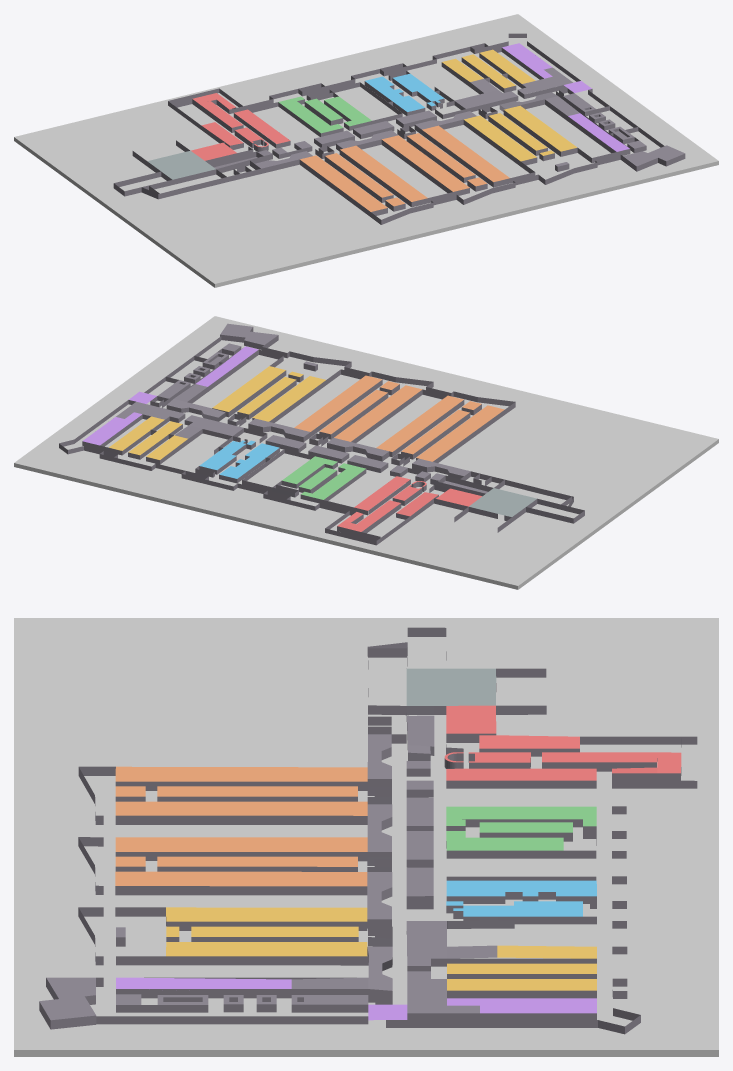
The model's file is hospital.glb.
3 views of the same model, one above another, from view 1: azimuth 30°, elevation 25°; view 2: azimuth 150°, elevation 25°; view 3: azimuth 270°, elevation 25° (orthographic). The views are drawn at different scales.
Visible parts, largest first — view 1: Surface Sol, planHop; view 2: Surface Sol, planHop; view 3: Surface Sol, planHop.
Part boxes in pixels (left/top/right/bottom): Surface Sol: left=14, top=14, right=718, bottom=287; planHop: left=113, top=33, right=685, bottom=224; Surface Sol: left=14, top=316, right=718, bottom=589; planHop: left=59, top=323, right=584, bottom=545; Surface Sol: left=14, top=618, right=718, bottom=1056; planHop: left=39, top=627, right=697, bottom=1034.
Size of what is drawn, in the model's own units: 200 by 3.93 by 138.
